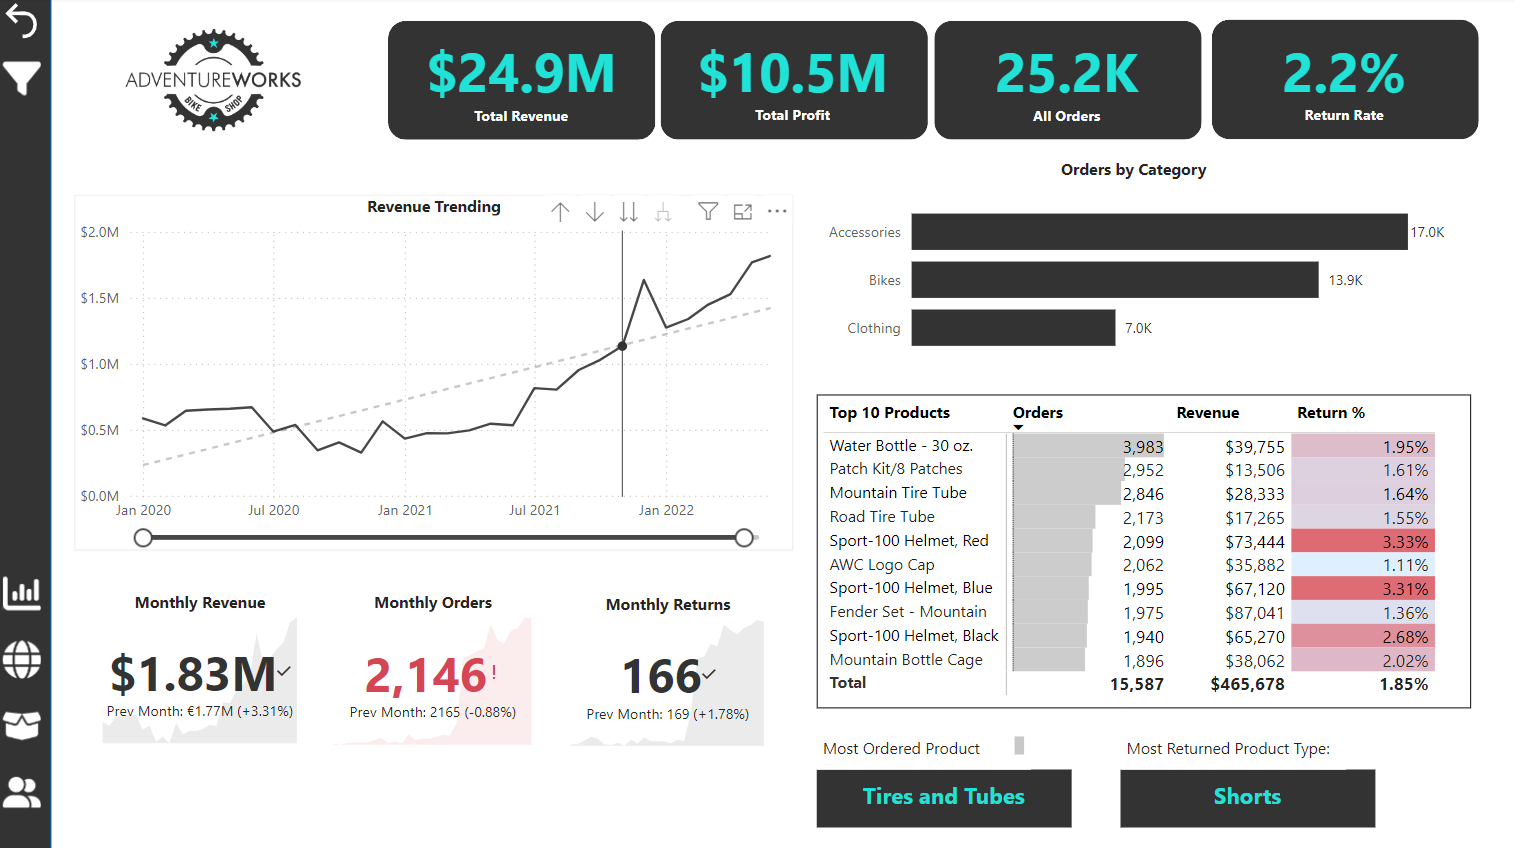

The dashboard page shown, as its layout file describes it:
{"tool":"powerbi","page":{"name":"Executive Dashboard","canvas":[1280,720],"ordinal":0},"visuals":[{"type":"shape","box":[0,0,45,720],"z":0},{"type":"actionButton","box":[0,481.4,44.5,40.3],"z":1000},{"type":"shape","box":[328.5,19.6,225,100.2],"z":2000},{"type":"actionButton","box":[0,592.7,44.5,40.3],"z":3000},{"type":"shape","box":[556.7,19.6,225.1,100],"z":4000},{"type":"actionButton","box":[0,648.3,44.5,40.3],"z":5000},{"type":"shape","box":[787.4,19.6,225.1,100],"z":6000},{"type":"actionButton","box":[0,537,44.5,40.3],"z":7000},{"type":"shape","box":[1020.6,19.2,224.5,100.9],"z":8000},{"type":"card","title":"hdbdb","fields":{"Values":["Measure Table.All Orders"]},"box":[809.3,24,178.9,91.3],"z":9000},{"type":"card","fields":{"Values":["Measure Table.Total Revenue"]},"box":[336.2,24,207.7,91.3],"z":10000},{"type":"card","fields":{"Values":["Measure Table.Return Rate"]},"box":[1051.9,24,162.1,90.1],"z":11000},{"type":"card","fields":{"Values":["Measure Table.Total Profit"]},"box":[563.2,24,210.1,90.1],"z":12000},{"type":"clusteredBarChart","title":"Orders by Category","fields":{"Category":["Product Categories Lookup.CategoryName"],"Y":["Measure Table.Total Orders"]},"box":[688.7,135.6,533.1,180.8],"z":13000},{"type":"image","box":[83.4,20.1,197.5,100.3],"z":14000},{"type":"lineChart","title":"Revenue Trending","fields":{"Y":["Measure Table.Total Revenue"],"Category":["Calendar Lookup.Date Hierarchy.Start of Year","Calendar Lookup.Date Hierarchy.Start of Month","Calendar Lookup.Date Hierarchy.Start of Week","Calendar Lookup.Date Hierarchy.Date"]},"box":[63.8,166.1,605,299.5],"z":15000},{"type":"kpi","title":"Monthly Revenue","fields":{"Indicator":["Measure Table.Total Revenue"],"TrendLine":["Calendar Lookup.Start of Month"],"Goal":["Measure Table.Previous Month Revenue"]},"box":[83,499.7,173.5,133.5],"z":16000},{"type":"kpi","title":"Monthly Orders","fields":{"TrendLine":["Calendar Lookup.Start of Month"],"Goal":["Measure Table.Previous Month Orders"],"Indicator":["Measure Table.Total Orders"]},"box":[277.3,499.7,176.5,134.9],"z":17000},{"type":"kpi","title":"Monthly Returns","fields":{"TrendLine":["Calendar Lookup.Start of Month"],"Goal":["Measure Table.Previous Month Returns"],"Indicator":["Measure Table.Total Returns"]},"box":[477.5,501.2,172,133.5],"z":18000},{"type":"pivotTable","fields":{"Rows":["Product Lookup.ProductName"],"Values":["Measure Table.Total Orders","Measure Table.Total Revenue","Measure Table.Return Rate"]},"box":[688.6,334.3,550,264.3],"z":19000},{"type":"card","fields":{"Values":["Min(Product Subcategories Lookup.SubcategoryName)"]},"box":[688.6,650,214.3,48.6],"z":20000},{"type":"card","fields":{"Values":["Min(Product Subcategories Lookup.SubcategoryName)"]},"box":[944.3,650,214.3,48.6],"z":21000},{"type":"textbox","box":[688.9,617.5,179.8,32.9],"z":22000},{"type":"textbox","box":[944.1,617.5,189.4,32.9],"z":23000},{"type":"actionButton","box":[0,0,45.3,39.5],"z":24000},{"type":"actionButton","box":[0,48.7,44.5,40.3],"z":26000}]}

Visuals, with their boxes on the page's 1280x720 design canvas (x1, y1, x2, y2). These are canvas units, not pixel positions in the 1515x848 screenshot, which may show the page scaled, cropped or inside an application window:
shape: BBox(0, 0, 45, 720)
actionButton: BBox(0, 481, 44, 522)
shape: BBox(328, 20, 554, 120)
actionButton: BBox(0, 593, 44, 633)
shape: BBox(557, 20, 782, 120)
actionButton: BBox(0, 648, 44, 689)
shape: BBox(787, 20, 1012, 120)
actionButton: BBox(0, 537, 44, 577)
shape: BBox(1021, 19, 1245, 120)
"hdbdb" card: BBox(809, 24, 988, 115)
card - Measure Table.Total Revenue: BBox(336, 24, 544, 115)
card - Measure Table.Return Rate: BBox(1052, 24, 1214, 114)
card - Measure Table.Total Profit: BBox(563, 24, 773, 114)
"Orders by Category" clusteredBarChart: BBox(689, 136, 1222, 316)
image: BBox(83, 20, 281, 120)
"Revenue Trending" lineChart: BBox(64, 166, 669, 466)
"Monthly Revenue" kpi: BBox(83, 500, 256, 633)
"Monthly Orders" kpi: BBox(277, 500, 454, 635)
"Monthly Returns" kpi: BBox(478, 501, 650, 635)
pivotTable - Product Lookup.ProductName x Measure Table.Total Orders: BBox(689, 334, 1239, 599)
card - Min(Product Subcategories Lookup.SubcategoryName): BBox(689, 650, 903, 699)
card - Min(Product Subcategories Lookup.SubcategoryName): BBox(944, 650, 1159, 699)
textbox: BBox(689, 618, 869, 650)
textbox: BBox(944, 618, 1134, 650)
actionButton: BBox(0, 0, 45, 40)
actionButton: BBox(0, 49, 44, 89)
